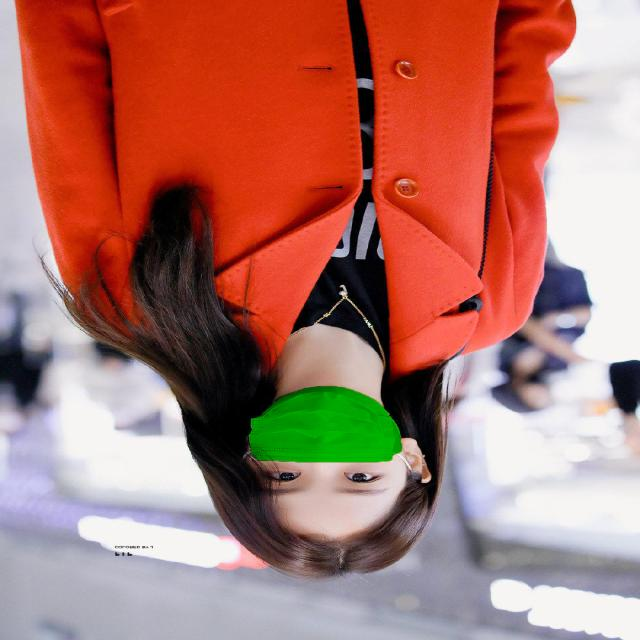mask: (233, 382, 419, 476)
